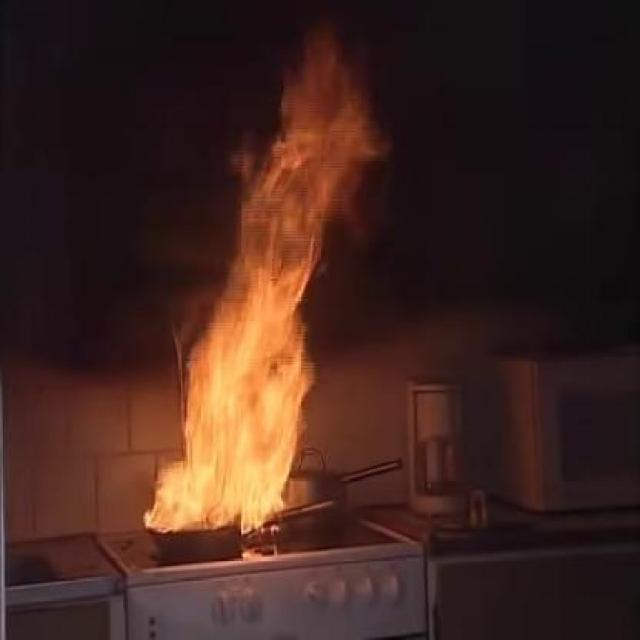fire: (165, 289, 298, 528)
smoke: (319, 45, 458, 148), (107, 173, 218, 270)
